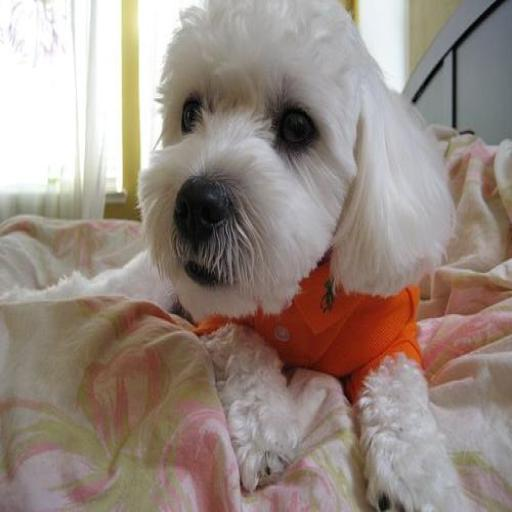dog_face: (144, 8, 417, 300)
